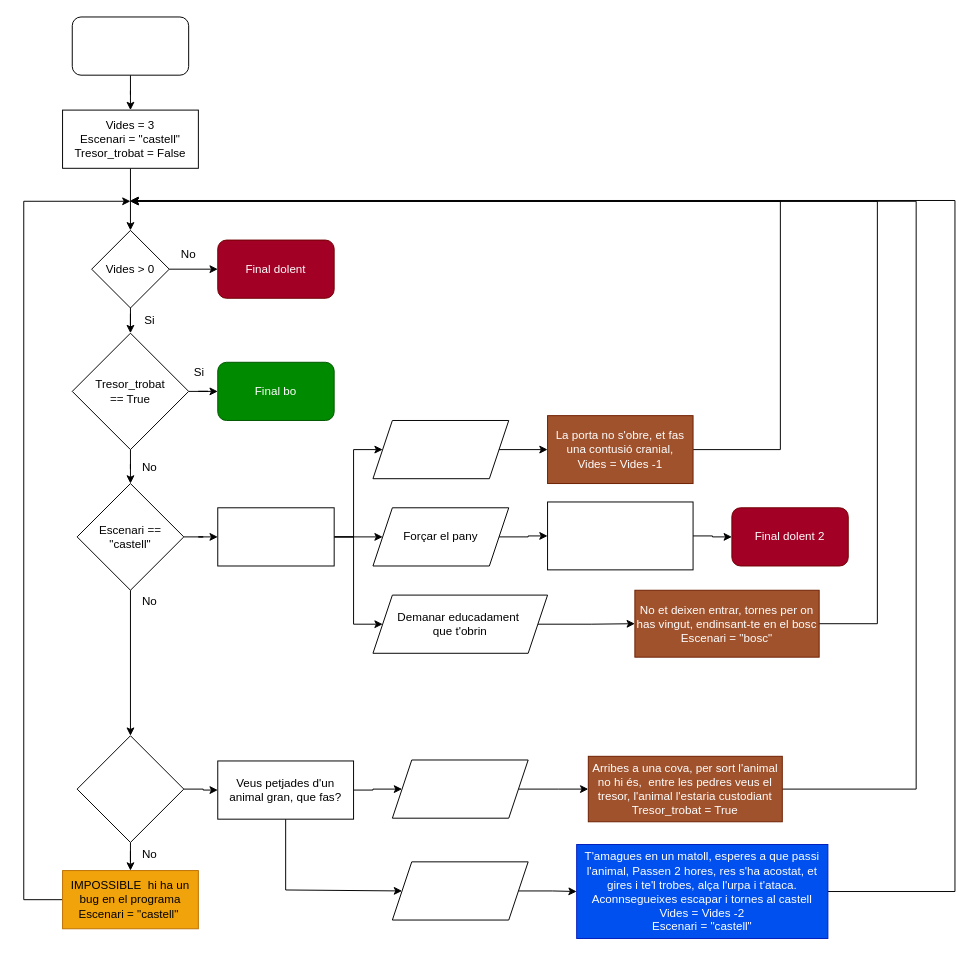
Image size: 980x955. Some labels were removed from this diagram. Here are the shapes that lost their labels. From the top down, the box of each, then its label:
(71, 16, 189, 75): Inici
(372, 420, 509, 479): Intentar trencar-la
(217, 507, 334, 566): La porta està tancada, que fas?
(547, 501, 693, 570): Sorprenentment funciona, un guardia t'enxampa i ets empresonat
(76, 735, 184, 842): Escenari == "bosc"
(391, 759, 528, 818): Seguir-les
(391, 861, 528, 920): Amagar-te
